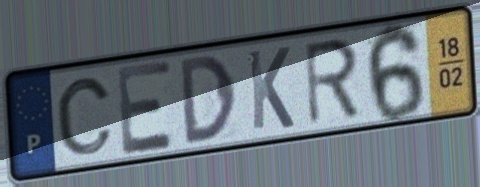6: (363, 19, 428, 123)
C: (53, 75, 117, 158)
D: (176, 51, 240, 148)
E: (114, 56, 178, 159)
K: (245, 44, 297, 134)
R: (301, 35, 363, 129)
